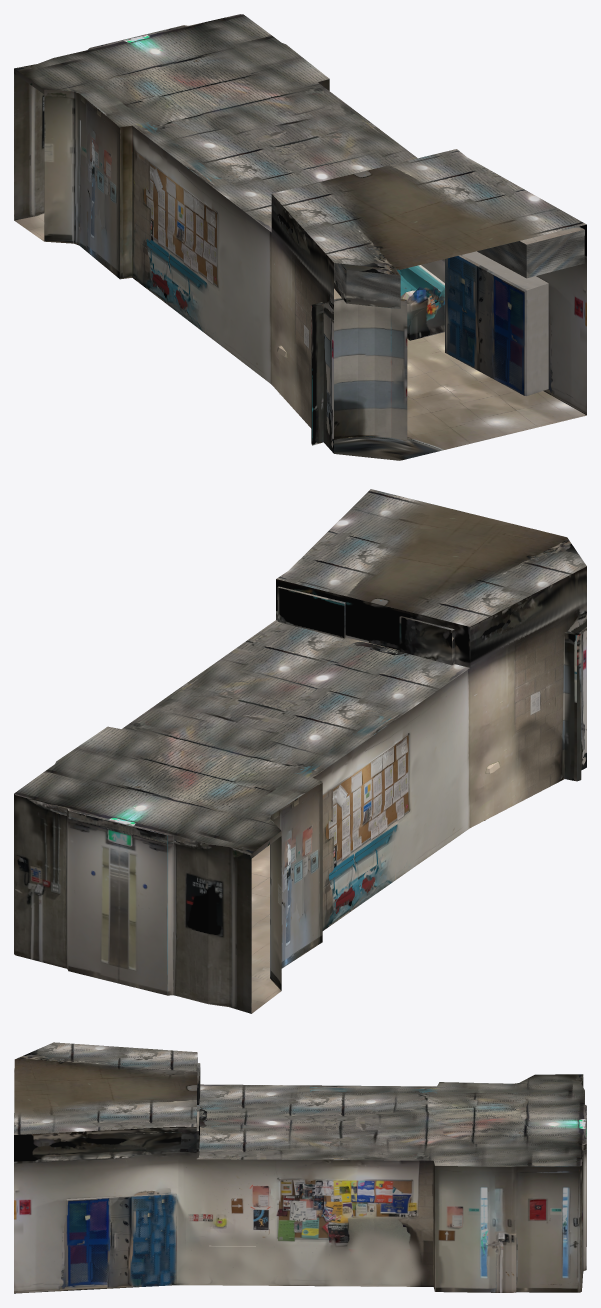
File: 1_corridor_1v3.fbx
3 renders of one model, top to bottom at view 1: azimuth 30°, elevation 25°; view 2: azimuth 150°, elevation 25°; view 3: azimuth 270°, elevation 25°, orthographic. The views are drawn at different scales.
Parts seen in each view (by area): view 1: 1_corridor_1v2; view 2: 1_corridor_1v2; view 3: 1_corridor_1v2.
Boxes of the visible parts, x1,y1,x2,y2 form: 1_corridor_1v2: (14,14,586,460); 1_corridor_1v2: (14,489,586,1013); 1_corridor_1v2: (14,1042,586,1293).
Size of the model in its own units: 411 by 322 by 1036.
